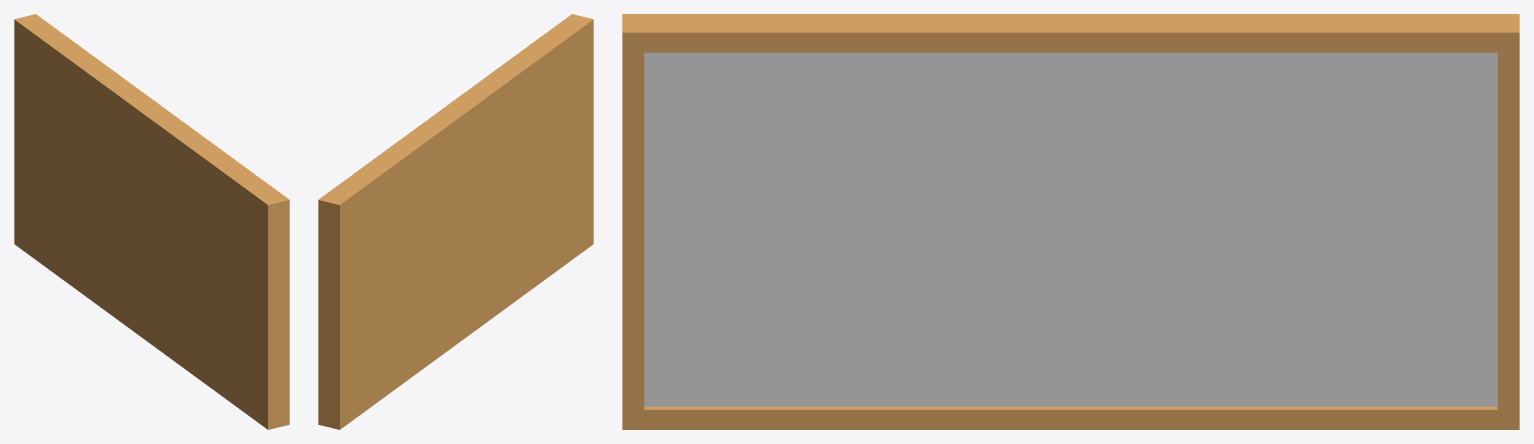
Rendered from Bild.fbx.
3 views of the same model, side by side, from view 1: azimuth 30°, elevation 25°; view 2: azimuth 150°, elevation 25°; view 3: azimuth 270°, elevation 25° (orthographic). The views are drawn at different scales.
Visible parts, largest first — view 1: Cube; view 2: Cube; view 3: Cube.
Boxes of the visible parts, x1=… form: Cube: x1=14, y1=14, x2=289, y2=429; Cube: x1=318, y1=14, x2=593, y2=429; Cube: x1=622, y1=14, x2=1519, y2=429.
Bounding box in the file's own units: 39.64 × 393 × 804.
